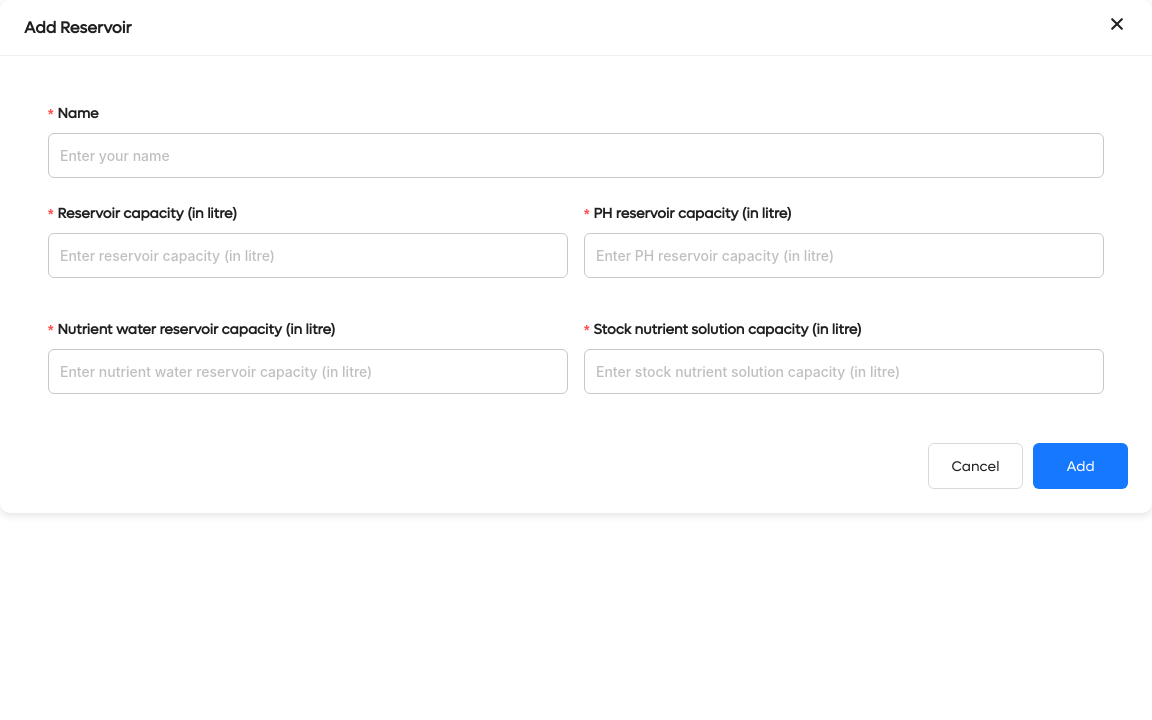
Test: Add reservoir page › should apply regex validation errors to add reservoir fields
Type "abc" into the field labelled "Reservoir capacity (in litre)" at (308, 256), box [48,233,568,278]
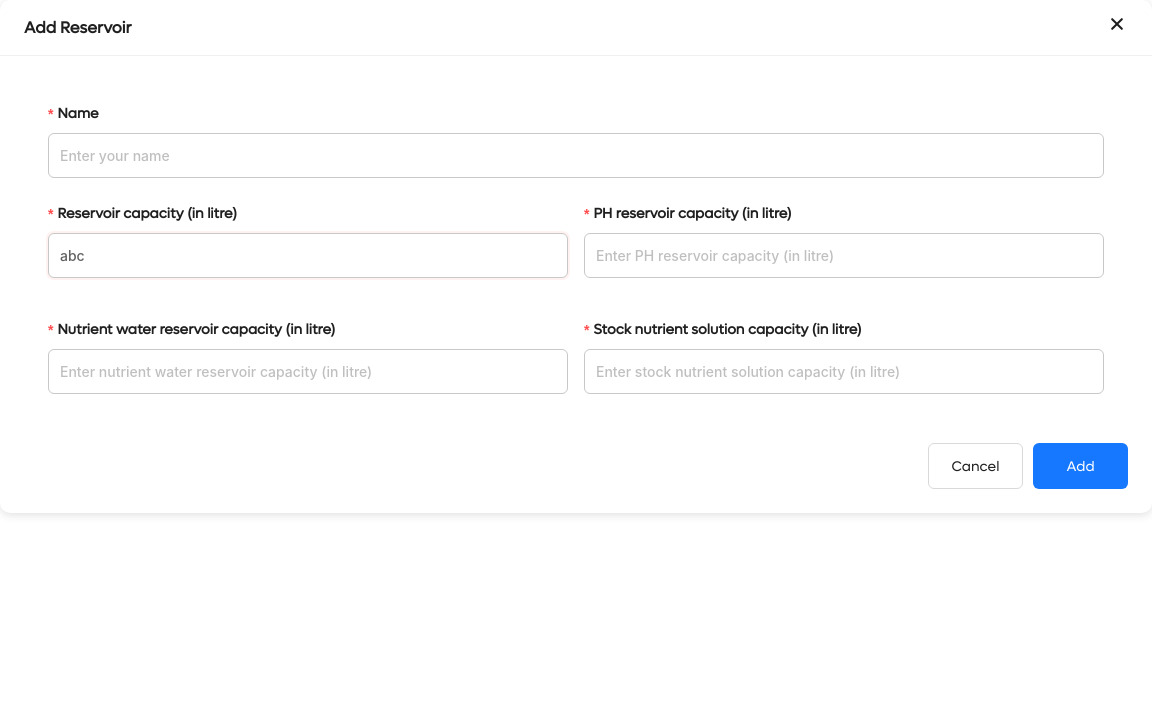
Type "xyz" into the field labelled "PH reservoir capacity (in litre)" at (844, 256), box [584,233,1104,278]
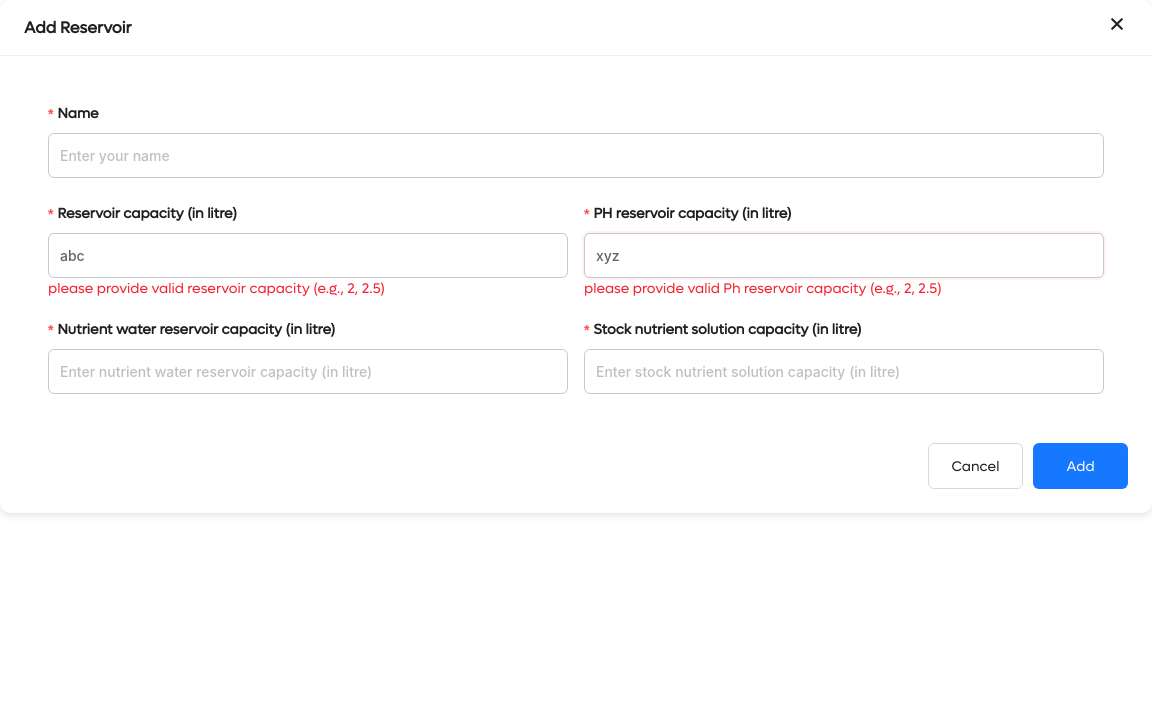
Type "prt" into the field labelled "Nutrient water reservoir capacity (in litre)" at (308, 372), box [48,349,568,394]
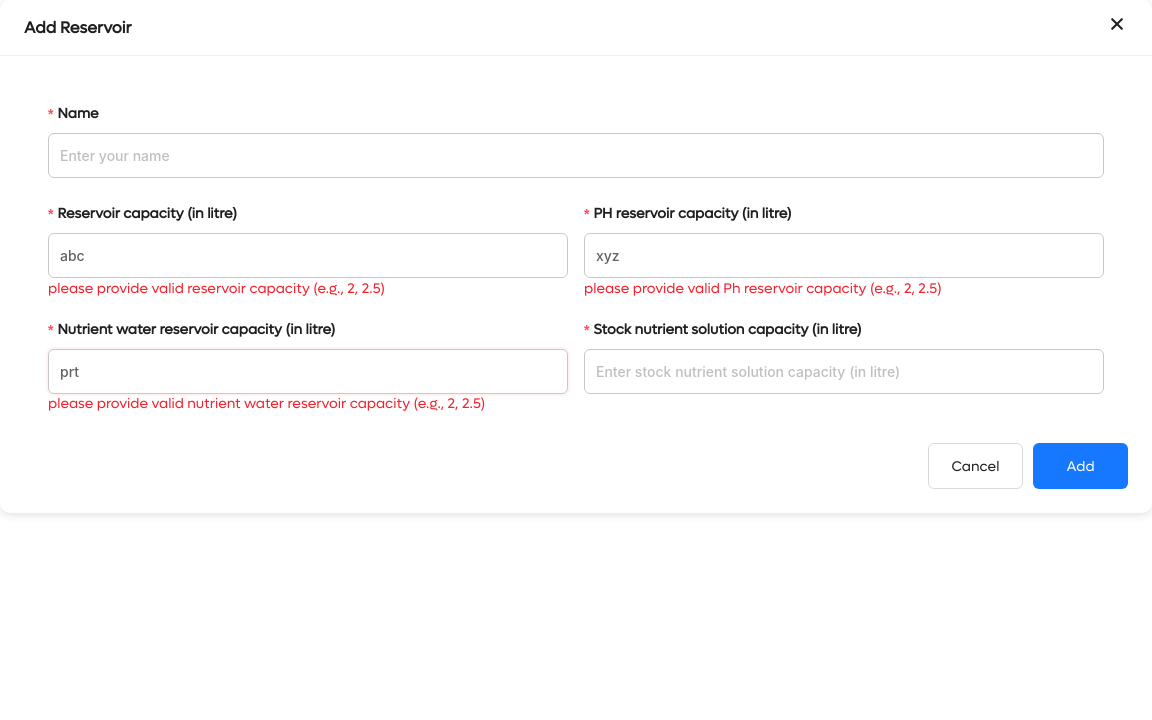
Type "rty" into the field labelled "Stock nutrient solution capacity (in litre)" at (844, 372), box [584,349,1104,394]
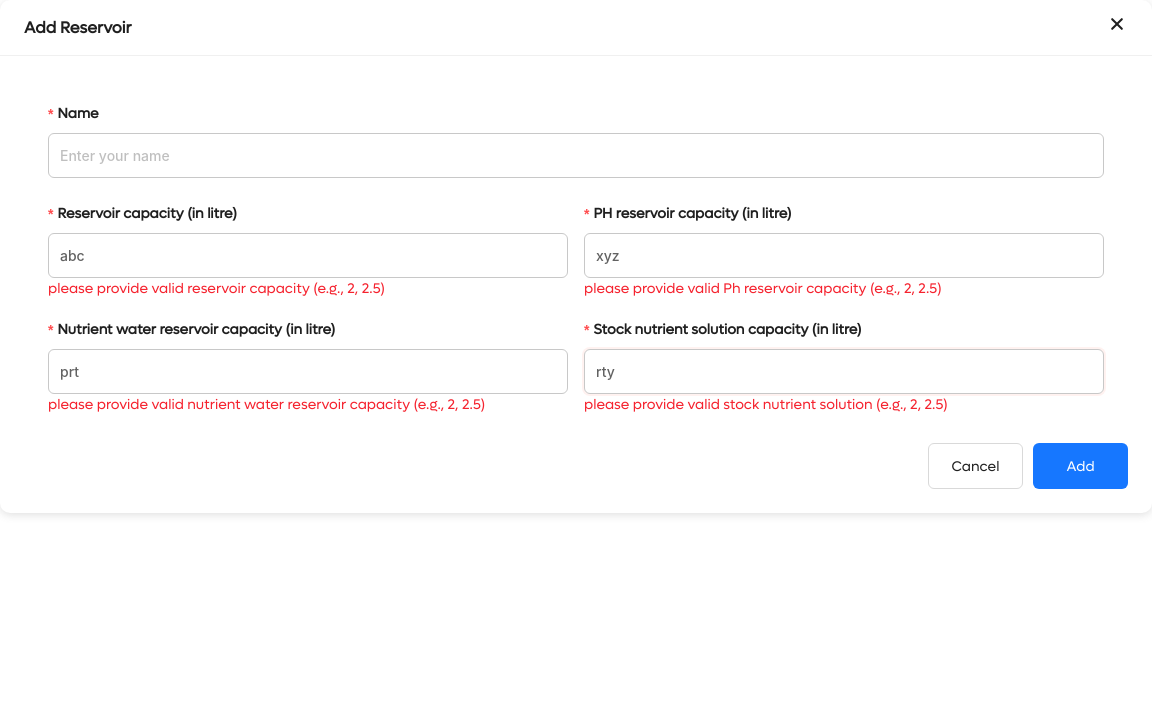
expect the text "please provide valid reservoir capacity (e.g., 2, 2.5)" is shown: met, box [48,279,385,298]
expect the text "please provide valid Ph reservoir capacity (e.g., 2, 2.5)" is shown: met, box [584,279,942,298]
expect the text "please provide valid nutrient water reservoir capacity (e.g., 2, 2.5)" is shown: met, box [48,395,485,414]
